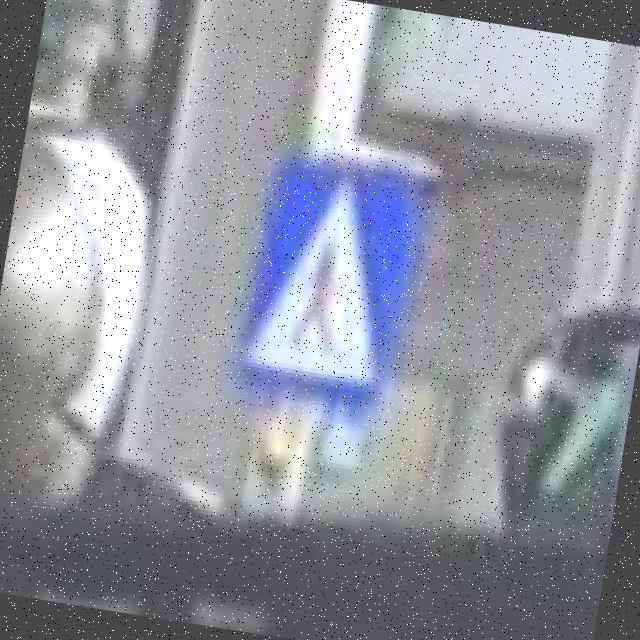Przejscie dla pieszych: (238, 149, 420, 419)
